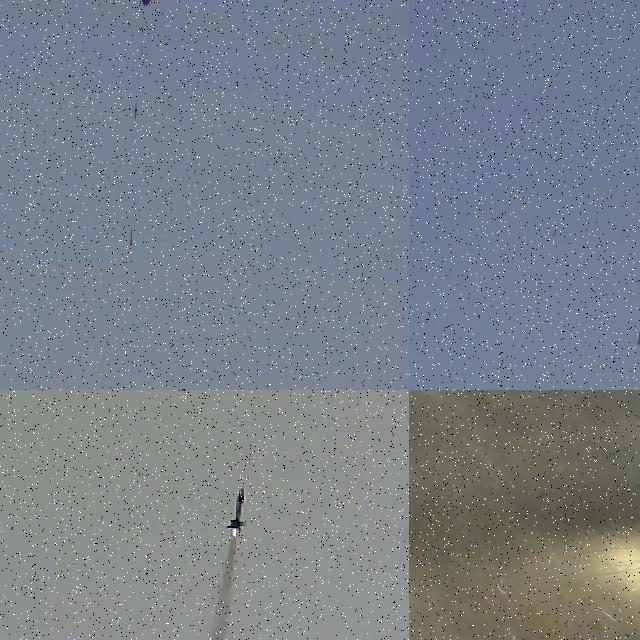Rocket: (224, 484, 248, 530), (129, 228, 133, 247), (637, 328, 640, 345)
